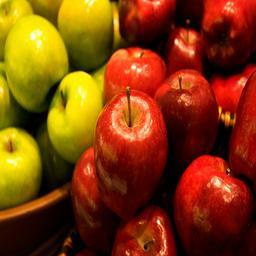apple: (95, 90, 169, 216), (172, 154, 253, 252), (151, 69, 219, 167), (4, 15, 69, 110), (47, 72, 105, 164), (70, 145, 117, 251), (57, 1, 123, 71), (200, 1, 256, 71), (1, 126, 42, 210), (110, 205, 176, 256), (104, 48, 166, 96), (117, 1, 177, 47), (162, 26, 206, 75)
